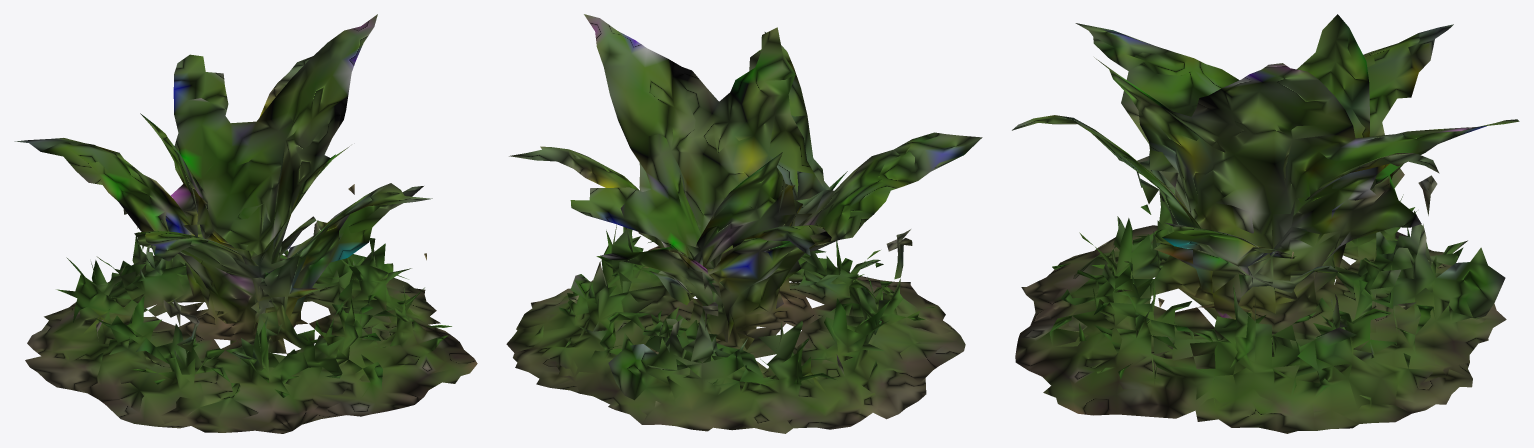
File: fern.1.glb
3 views of the same model, side by side, from view 1: azimuth 30°, elevation 25°; view 2: azimuth 150°, elevation 25°; view 3: azimuth 270°, elevation 25° (orthographic). The views are drawn at different scales.
Visible parts, largest first — view 1: lod; view 2: lod; view 3: lod.
Part boxes in pixels (x1,y1,x2,y2): lod: (14,14,477,433); lod: (506,14,982,433); lod: (1012,14,1519,433).
Bounding box in the file's own units: 0.8683 × 0.6482 × 0.8574.
